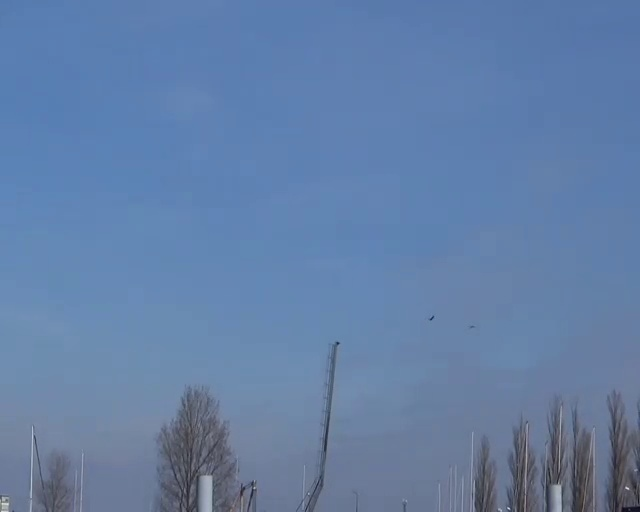BIRD: (427, 314, 435, 321)
